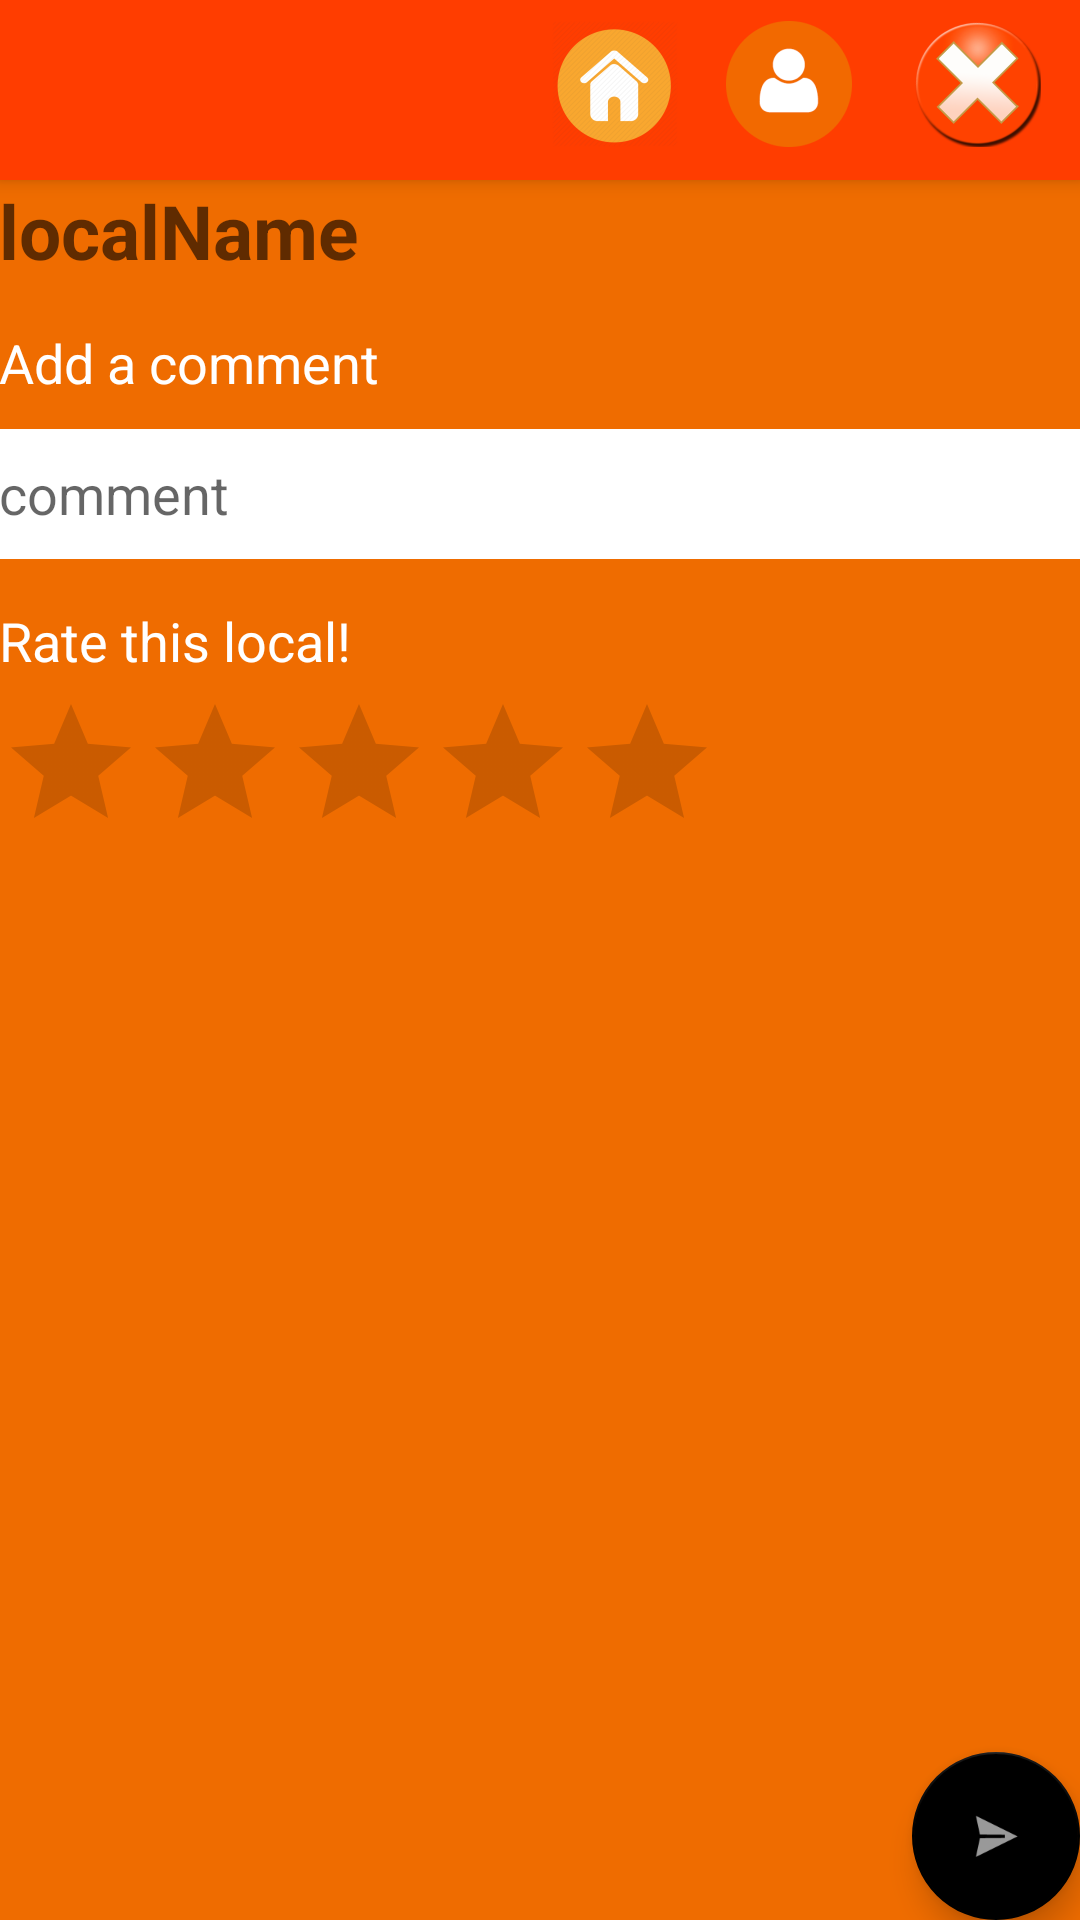

Icon click points for this 1080w x 1920h phone screenshot, format (x,y):
home: (614,86)
send: (996,1836)
user: (789,84)
